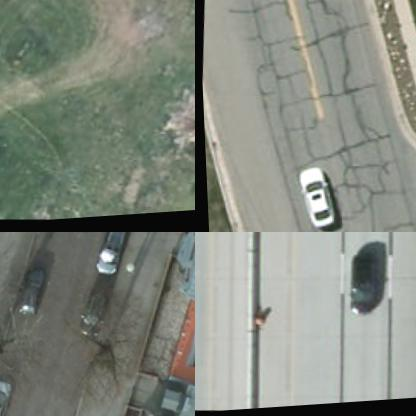car: (287, 163, 344, 231), (339, 254, 384, 326), (70, 296, 114, 345), (95, 232, 130, 282), (22, 271, 50, 320)
